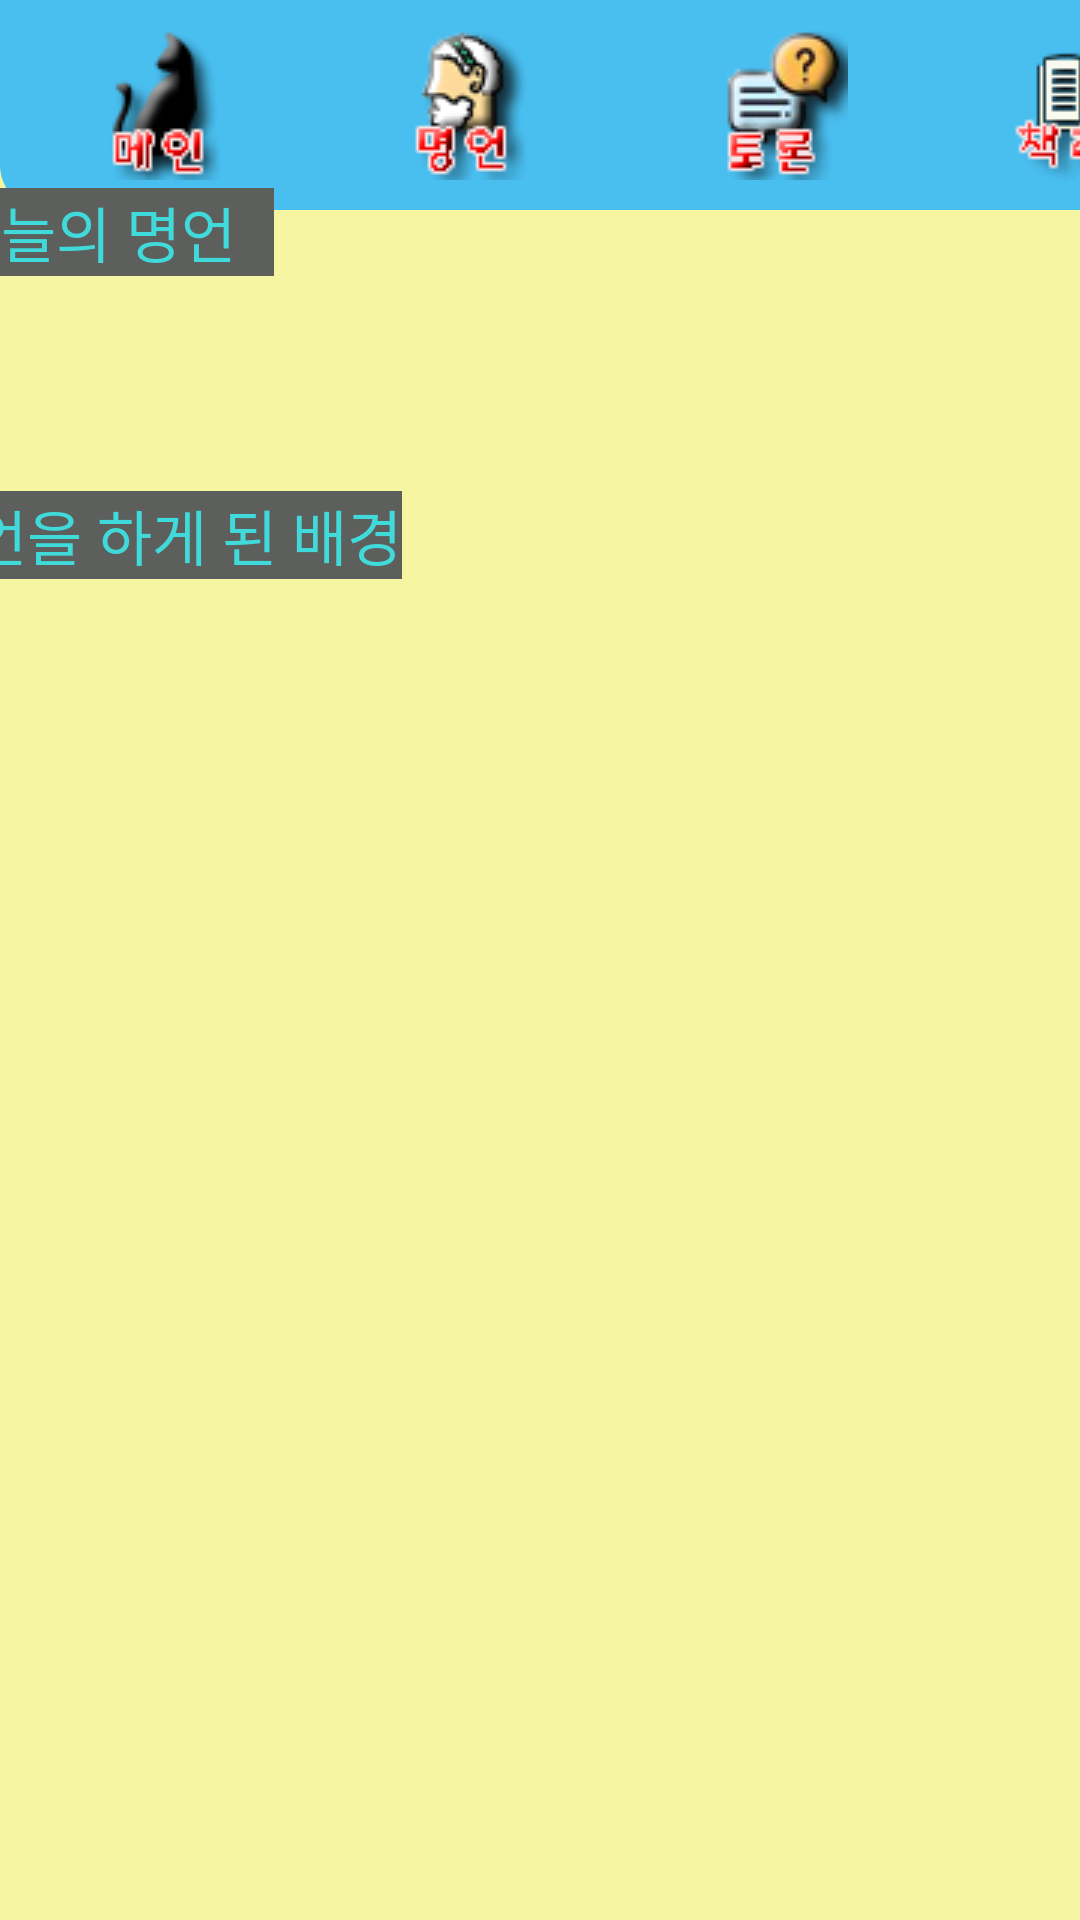

Icon bounding boxes for this 1080x1920 phone screenshot, format [left=x1, top=y1, right=x2, bottom=y2]:
community: [left=727, top=32, right=848, bottom=180]
